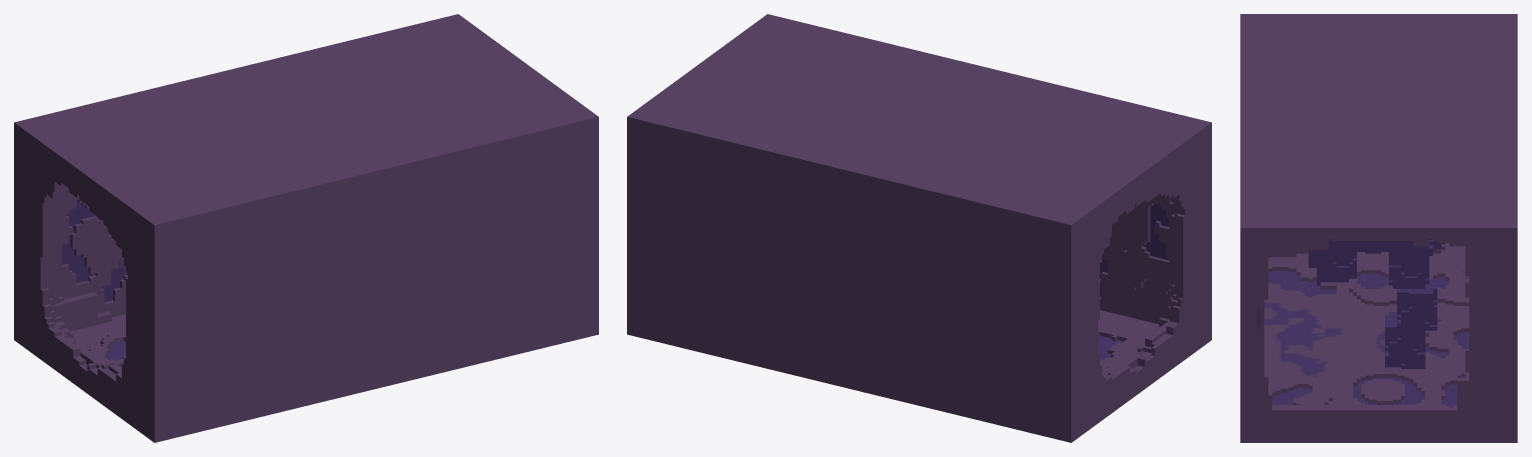
File: Level3_pathway_v2.dae
3 renders of one model, left to right at view 1: azimuth 30°, elevation 25°; view 2: azimuth 150°, elevation 25°; view 3: azimuth 270°, elevation 25°, orthographic.
Visible parts, largest first — view 1: level3_pathway_v2.level_3_pathway_v2; view 2: level3_pathway_v2.level_3_pathway_v2; view 3: level3_pathway_v2.level_3_pathway_v2.
Boxes of the visible parts, <box> form: level3_pathway_v2.level_3_pathway_v2: <box>14,14,598,442</box>; level3_pathway_v2.level_3_pathway_v2: <box>627,14,1211,442</box>; level3_pathway_v2.level_3_pathway_v2: <box>1240,14,1517,442</box>.
Bounding box in the file's own units: 12.6 × 5.9 × 6.9.
Materials: 1 (1 with a texture image).
